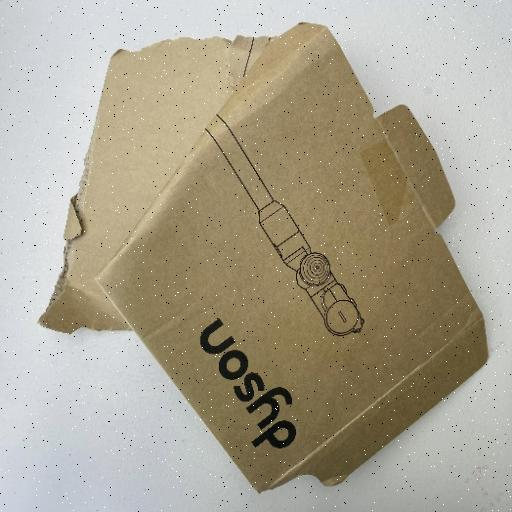Cardboard: (38, 20, 492, 494)
